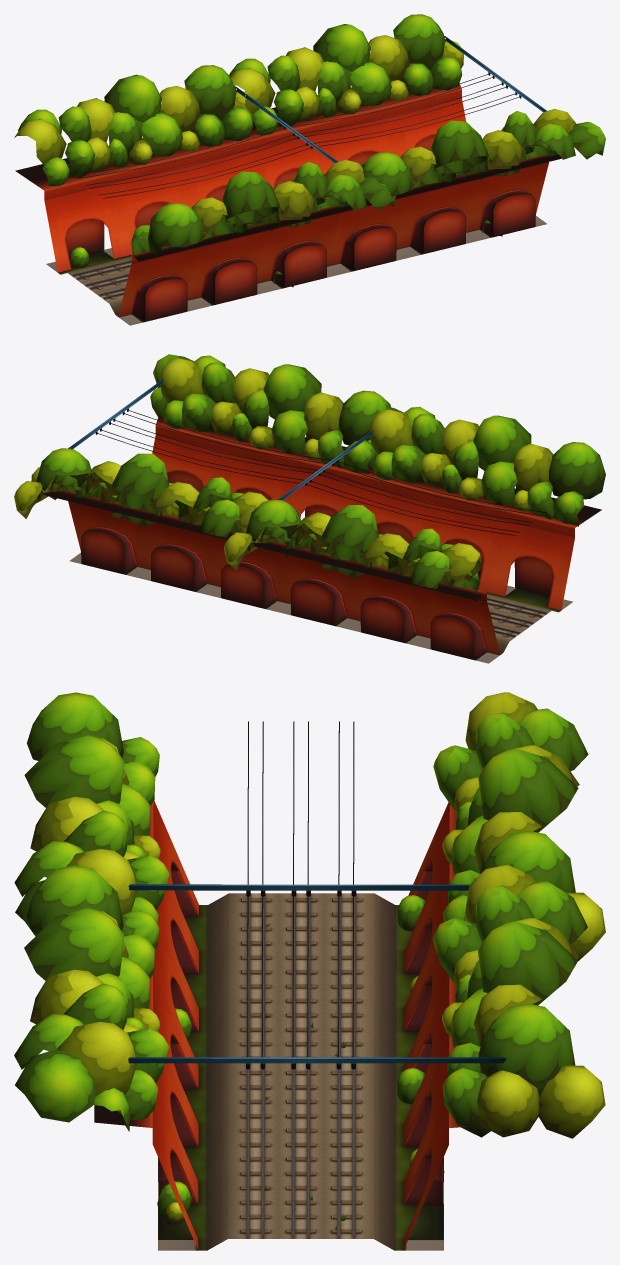
File: env.glb
The picture shows the model from 3 angles, top to bottom: view 1: azimuth 30°, elevation 25°; view 2: azimuth 150°, elevation 25°; view 3: azimuth 270°, elevation 25°; orthographic projection. The views are drawn at different scales.
Visible parts, largest first — view 1: Object_12; view 2: Object_12; view 3: Object_12.
Part boxes in pixels (left/top/right/bottom): Object_12: left=14, top=14, right=605, bottom=325; Object_12: left=14, top=354, right=605, bottom=663; Object_12: left=14, top=692, right=605, bottom=1250.
Size of the model in its own units: 94.36 by 29.8 by 62.74.
Materials: 1 (1 with a texture image).
